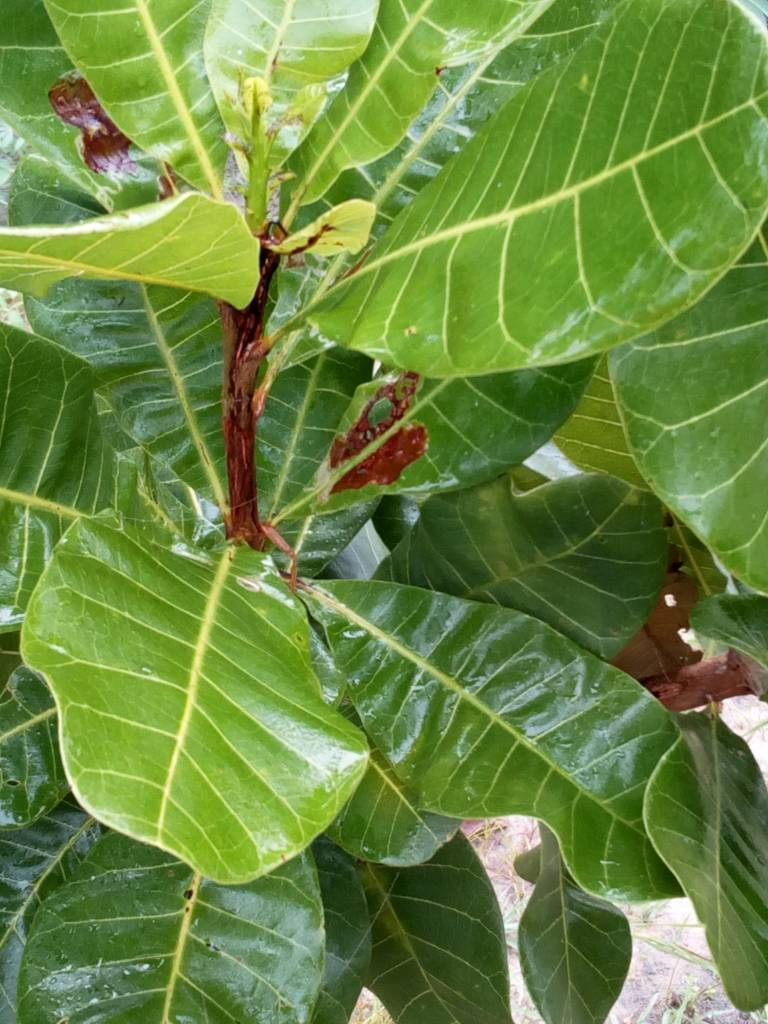Dysdercus wolkerii: (282, 333, 604, 585), (1, 1, 188, 210)
